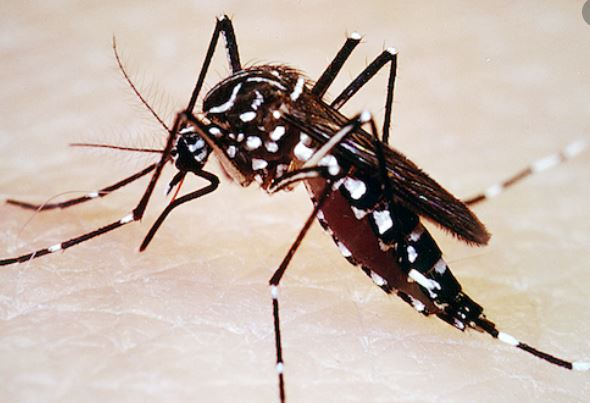dengue_mosquito: (4, 12, 573, 369)
